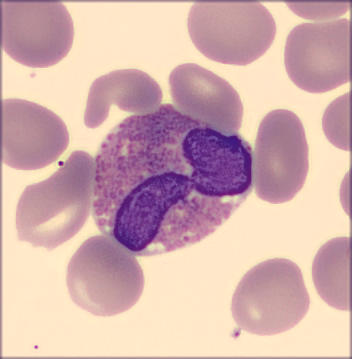EO: (91, 105, 259, 255)
RBC: (10, 150, 94, 249), (63, 235, 147, 316), (227, 255, 311, 336), (186, 1, 279, 68), (167, 64, 246, 139), (251, 106, 310, 205), (281, 17, 352, 96), (1, 97, 69, 171), (1, 1, 74, 68), (83, 67, 161, 128), (310, 232, 352, 315), (321, 91, 351, 158)
